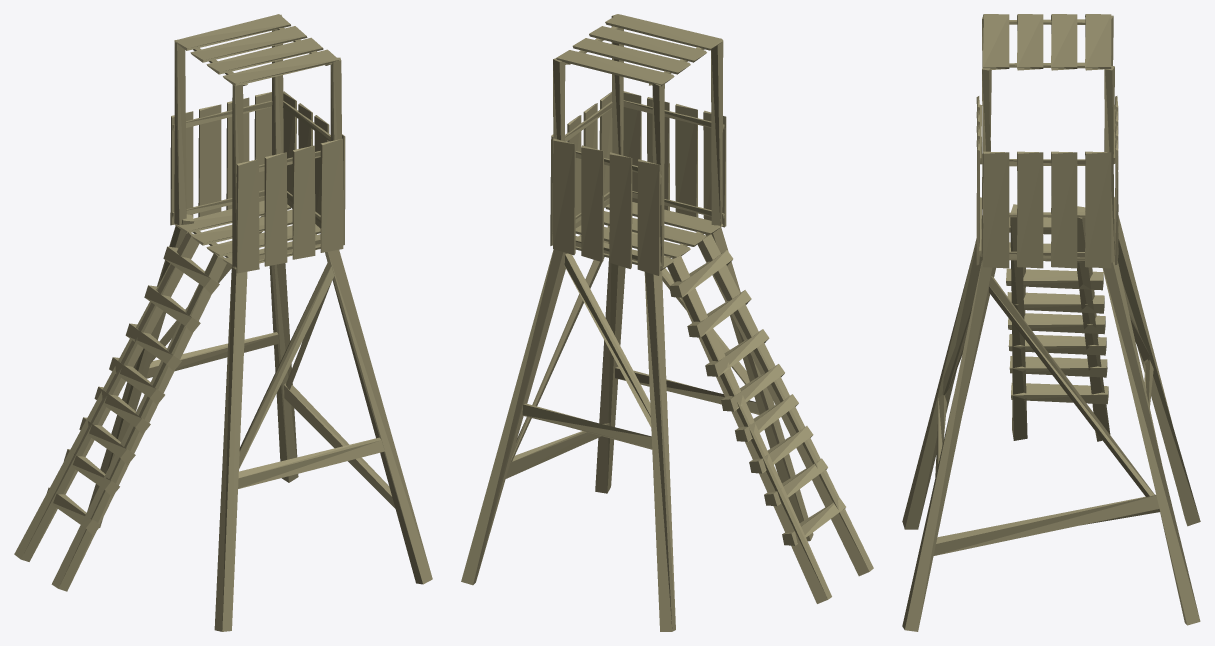
File: Jaergerstand_Mesh.fbx
3 renders of one model, left to right at view 1: azimuth 30°, elevation 25°; view 2: azimuth 150°, elevation 25°; view 3: azimuth 270°, elevation 25°, orthographic. The views are drawn at different scales.
Visible parts, largest first — view 1: Jaegerstand:Haeuschen, Jaegerstand:Gestell, Jaegerstand:Leiter; view 2: Jaegerstand:Haeuschen, Jaegerstand:Gestell, Jaegerstand:Leiter; view 3: Jaegerstand:Gestell, Jaegerstand:Haeuschen, Jaegerstand:Leiter.
Part boxes in pixels (x1,y1,x2,y2): Jaegerstand:Haeuschen: [170, 14, 345, 273]; Jaegerstand:Gestell: [87, 214, 432, 631]; Jaegerstand:Leiter: [14, 232, 226, 591]; Jaegerstand:Haeuschen: [550, 14, 726, 275]; Jaegerstand:Gestell: [461, 225, 813, 631]; Jaegerstand:Leiter: [667, 234, 873, 603]; Jaegerstand:Gestell: [902, 215, 1200, 631]; Jaegerstand:Haeuschen: [976, 14, 1118, 268]; Jaegerstand:Leiter: [1006, 204, 1110, 441].
Bounding box in the file's own units: 116 × 175 × 87.66.
